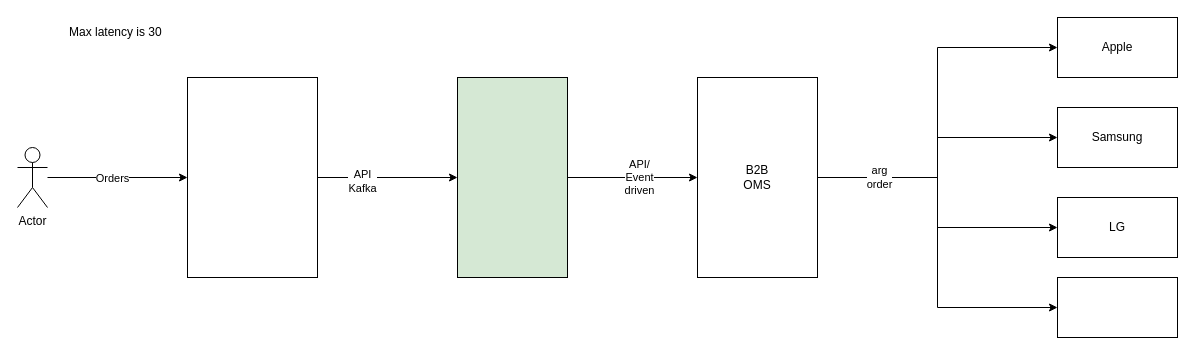
The diagram is 1195 pixels wide and 355 high, and some of its shapes have lost their labels. Here are the shapes that lost their labels. From the top down, the centre of each, then its label:
At (252,177): "B2C Order management System".
At (512,177): "Aggregator By time By QTY".
At (1117,307): "Google".
